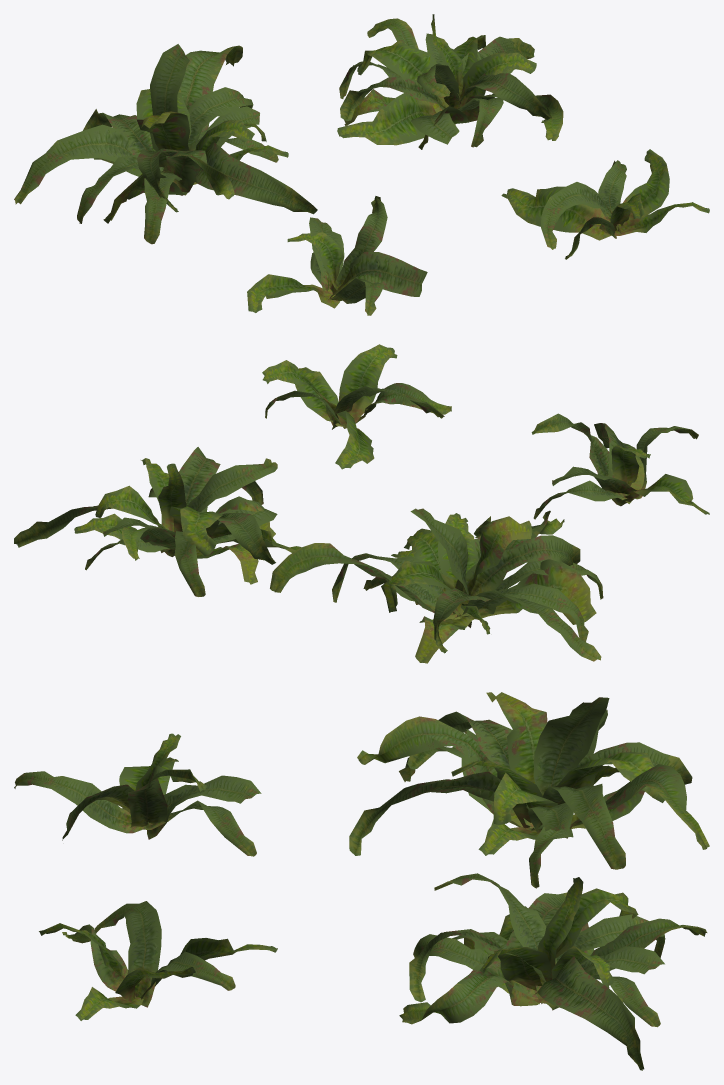
File: fern_02.glb
The picture shows the model from 3 angles, top to bottom: view 1: azimuth 30°, elevation 25°; view 2: azimuth 150°, elevation 25°; view 3: azimuth 270°, elevation 25°; orthographic projection. The views are drawn at different scales.
Visible parts, largest first — view 1: fern_02_b, fern_02_c, fern_02_d, fern_02_a; view 2: fern_02_b, fern_02_c, fern_02_d, fern_02_a; view 3: fern_02_b, fern_02_c, fern_02_a, fern_02_d.
Part boxes in pixels (x1,y1,x2,y2): fern_02_b: (14,44,317,244); fern_02_c: (337,14,563,149); fern_02_d: (501,149,709,259); fern_02_a: (247,196,427,315); fern_02_b: (270,508,603,663); fern_02_c: (14,447,301,596); fern_02_d: (262,344,451,469); fern_02_a: (531,413,709,519); fern_02_b: (349,692,709,888); fern_02_c: (399,873,707,1070); fern_02_a: (14,733,261,856); fern_02_d: (39,901,277,1020).
Bounding box in the file's own units: 1.97 × 0.4277 × 1.72.
1 material, 1 textured.
